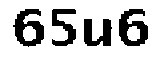5: (48, 5, 79, 49)
6: (13, 5, 46, 53), (118, 5, 152, 51)
u: (81, 16, 113, 52)
